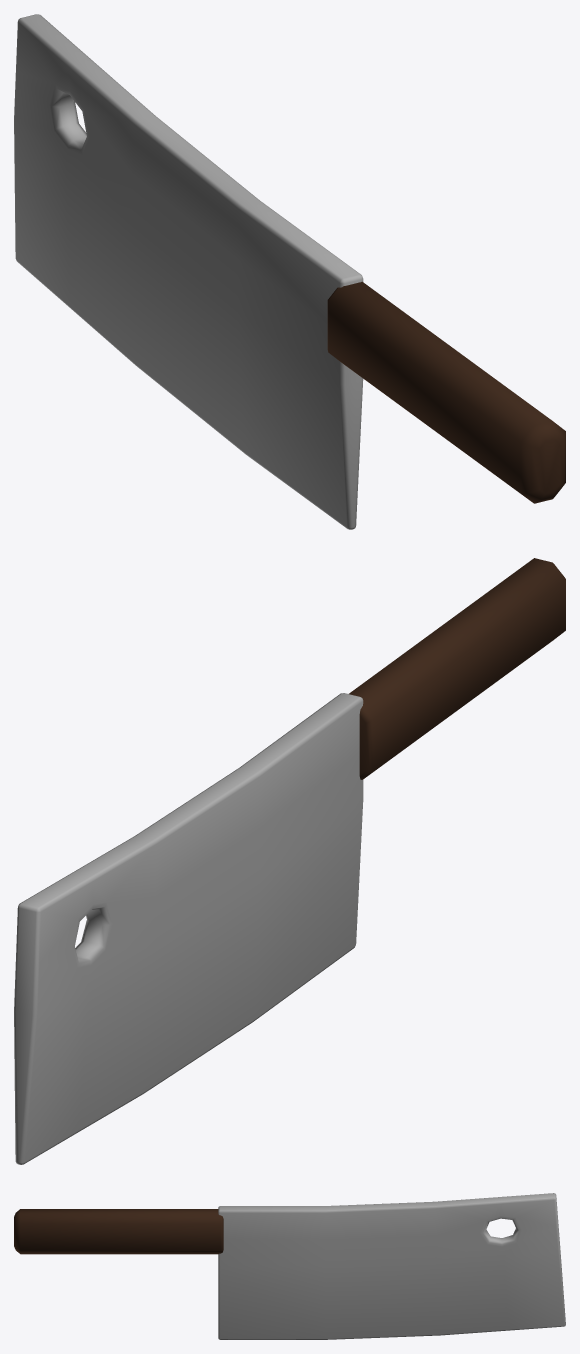
File: knife.fbx
3 views of the same model, one above another, from view 1: azimuth 30°, elevation 25°; view 2: azimuth 150°, elevation 25°; view 3: azimuth 270°, elevation 25° (orthographic). The views are drawn at different scales.
Parts seen in each view (by area): view 1: Blade, Handle; view 2: Blade, Handle; view 3: Blade, Handle.
Boxes of the visible parts, x1,y1,x2,y2 form: Blade: (14,14,363,529); Handle: (327,281,565,503); Blade: (14,693,363,1164); Handle: (349,558,565,779); Blade: (218,1193,565,1339); Handle: (14,1209,223,1254).
Bounding box in the file's own units: 3.88 × 22.99 × 79.66.
